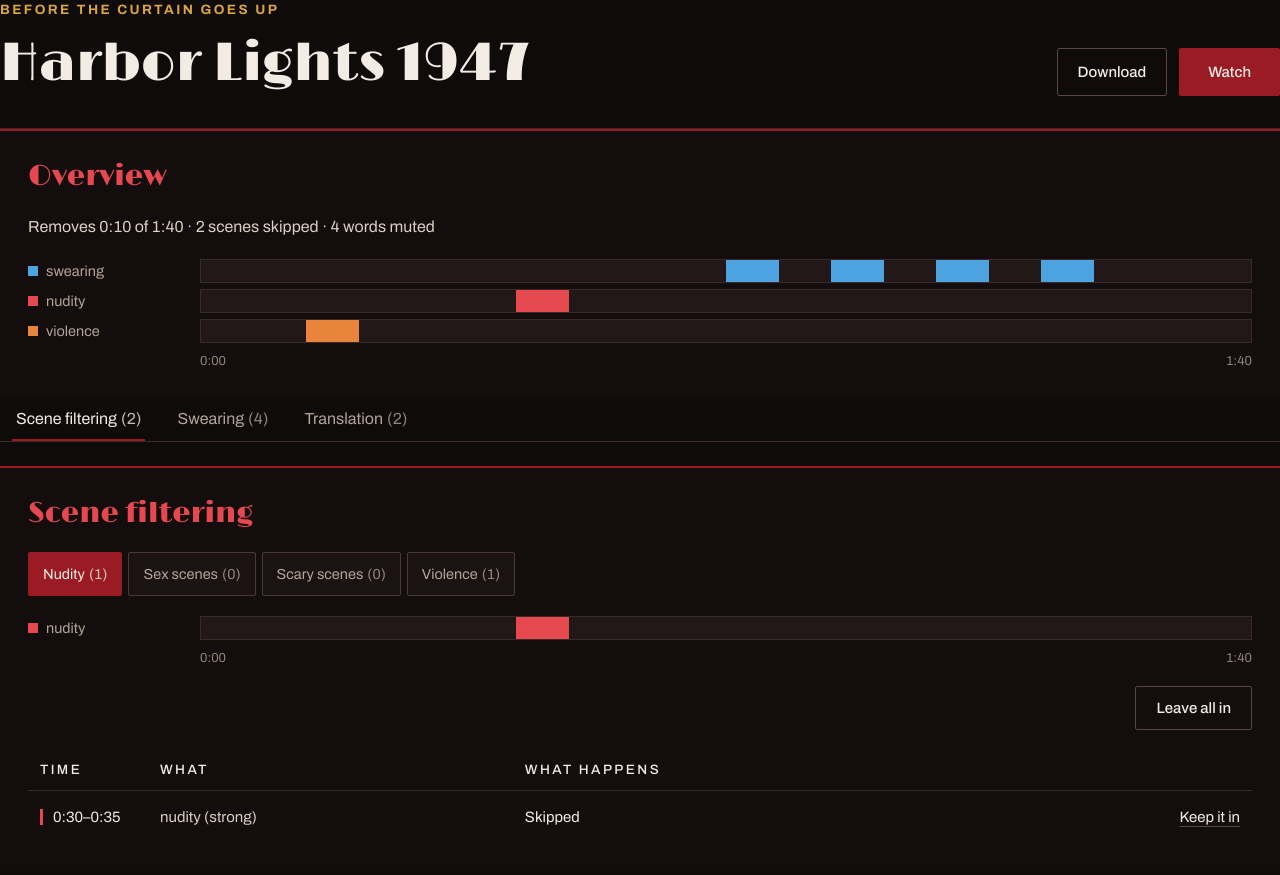
Test case: ReviewPage leave in › drops down the strong and moderate groups too, each on its own
Click the tab "Swearing (4)" at coordinates (223, 419), box x1=162 y1=397 x2=284 y2=441
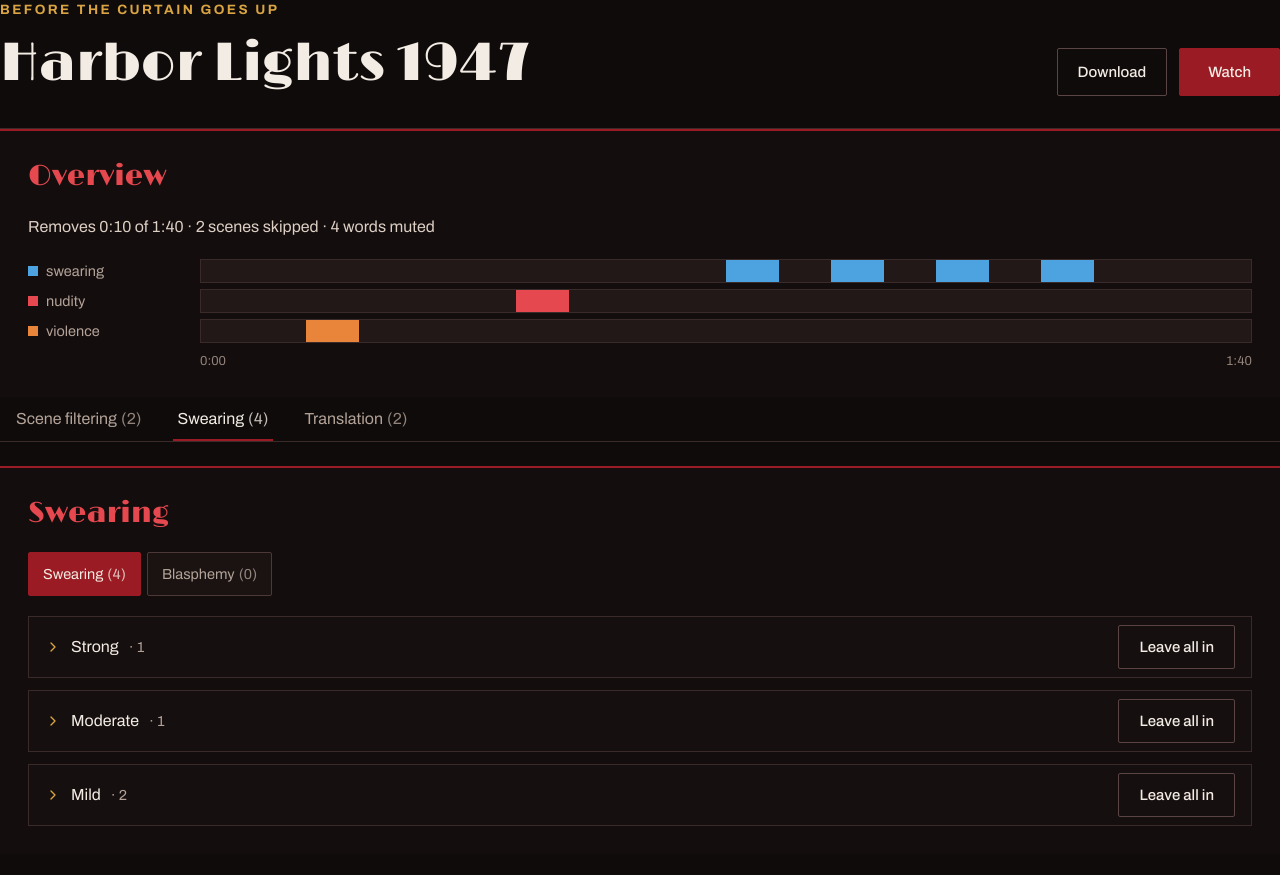
Click the button "Strong · 1" at coordinates (95, 647), box x1=45 y1=625 x2=145 y2=669
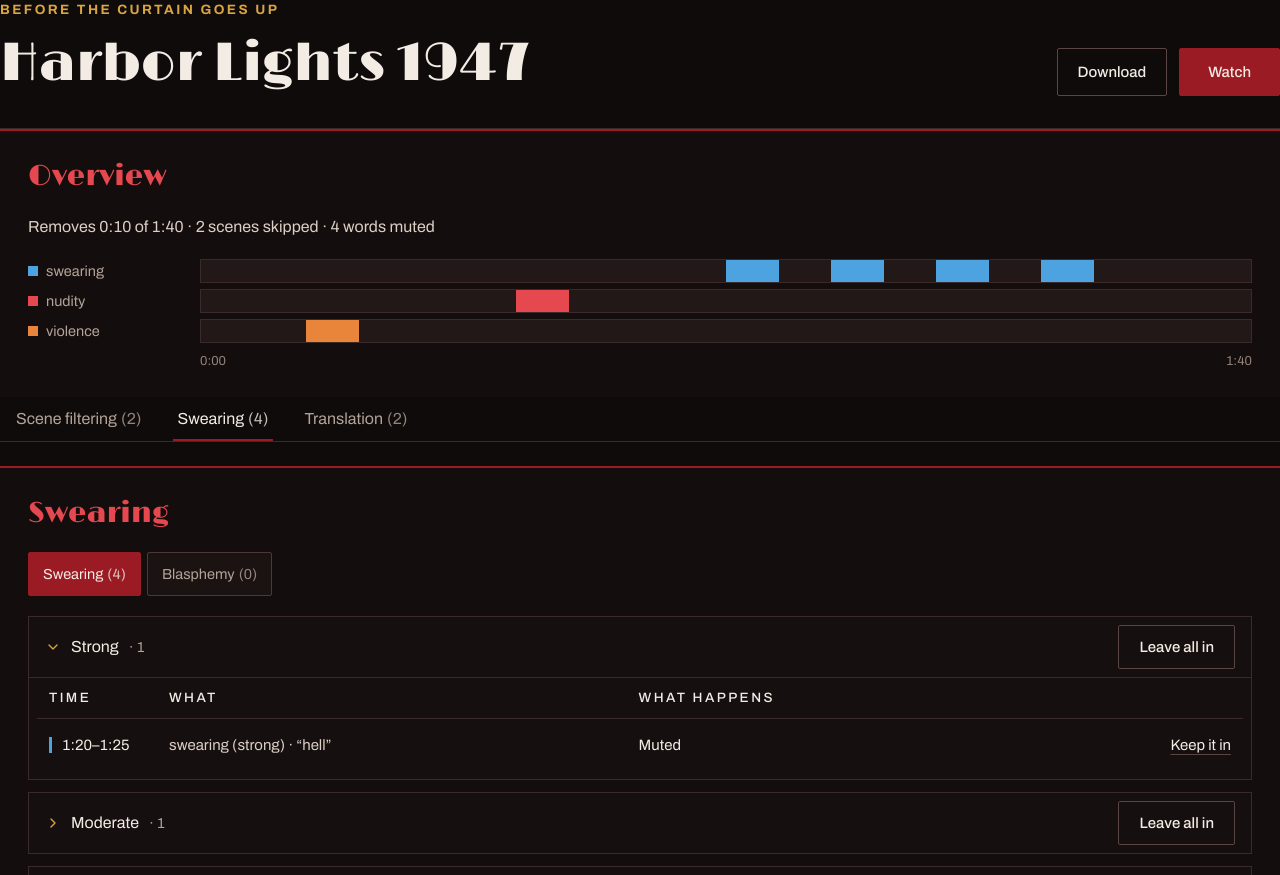
Expected: the button "Strong · 1" is expanded, x1=45 y1=625 x2=145 y2=669
Expected: the text "swearing (strong) · “hell”" is shown once, x1=157 y1=718 x2=627 y2=770
